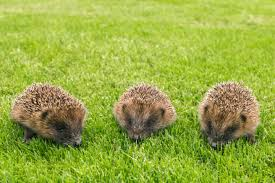hedgehog: (8, 81, 86, 147), (199, 78, 260, 148), (109, 82, 178, 139)
